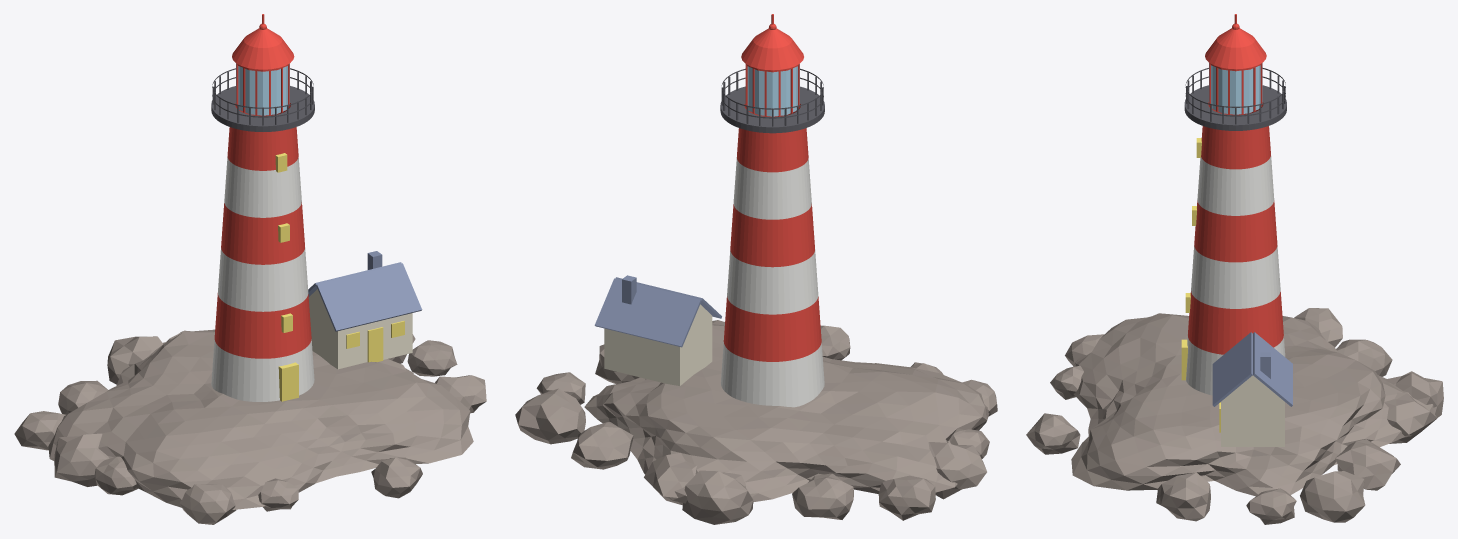
Rendered from lighthouse-island.glb.
3 renders of one model, left to right at view 1: azimuth 30°, elevation 25°; view 2: azimuth 150°, elevation 25°; view 3: azimuth 270°, elevation 25°, orthographic.
Parts seen in each view (by area): view 1: rocks, tower, stripes, cottage_roof, cottage, roof, gallery, rocks.008, glass, rocks.010, rocks.012, rocks.005 (+9 smaller); view 2: rocks, tower, stripes, cottage_roof, cottage, rocks.005, rocks.002, roof, gallery, rocks.003, rocks.006, rocks.008 (+8 smaller); view 3: rocks, stripes, tower, cottage, cottage_roof, rocks.002, roof, gallery, rocks.014, rocks.003, glass, rocks.012 (+9 smaller).
Part boxes in pixels (x1,y1,x2,y2): rocks: (48,329,473,509); tower: (211,156,314,401); stripes: (214,103,311,358); cottage_roof: (308,251,422,331); cottage: (308,289,412,369); roof: (232,14,294,115); gallery: (211,86,314,131); rocks.008: (54,433,109,486); glass: (236,63,289,115); rocks.010: (180,484,236,524); rocks.012: (371,457,422,498); rocks.005: (107,336,162,384); rocks: (584,320,989,503); tower: (720,157,824,407); stripes: (723,104,821,361); cottage_roof: (594,275,721,347); cottage: (604,304,712,385); rocks.005: (682,470,753,524); rocks.002: (515,388,585,444); roof: (741,14,803,116); gallery: (720,86,824,133); rocks.003: (571,422,633,469); rocks.006: (792,473,853,519); rocks.008: (928,442,986,499); rocks: (1071,313,1433,496); stripes: (1188,102,1283,354); tower: (1186,156,1285,395); cottage: (1221,375,1284,446); cottage_roof: (1212,332,1292,406); rocks.002: (1300,471,1365,522); roof: (1205,14,1266,114); gallery: (1184,85,1286,130); rocks.014: (1156,472,1210,521); rocks.003: (1335,439,1400,490); glass: (1209,63,1262,114); rocks.012: (1026,413,1080,454).
Size of the model in its own units: 22.49 by 21.88 by 19.57.
